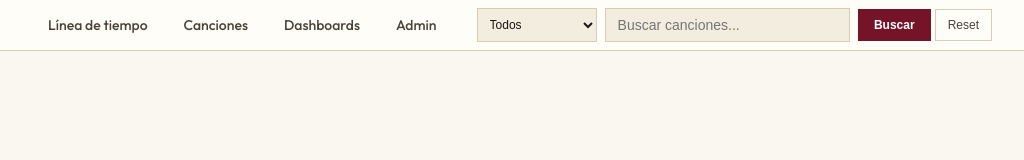
Test: AppNavBar.vue › clicking Reset clears the search term
In the field with placeholder "Buscar canciones...": (727, 25) [604,8,850,42], type "x"
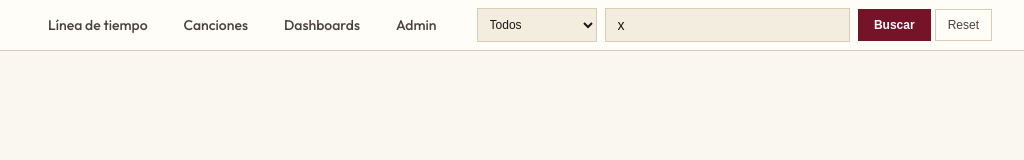
Click the button with class "nav-btn-reset": (963, 25) [935,9,992,41]
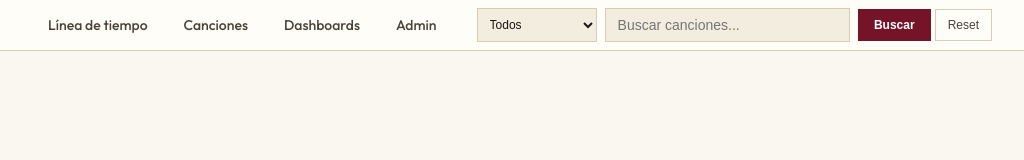
Result: the field with placeholder "Buscar canciones..." is empty at [604,8,850,42]
